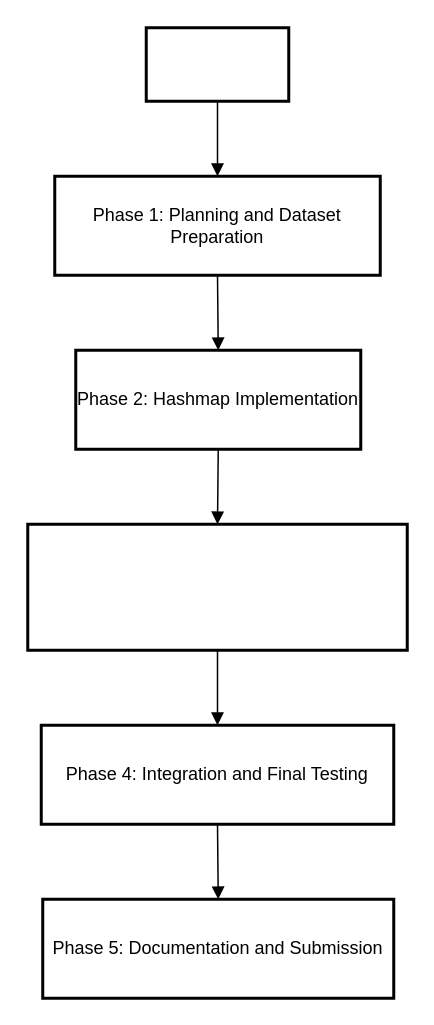
Some shapes in this 434 by 1025 pixel diagram are drawn without their labels. The box of each missing label's shape, as (x1, y1, x2, y2) in pixels:
Phase 3: Collision Handling Techniques & Email Classification Logic: (26, 522, 408, 651)
Start: (144, 26, 290, 102)
